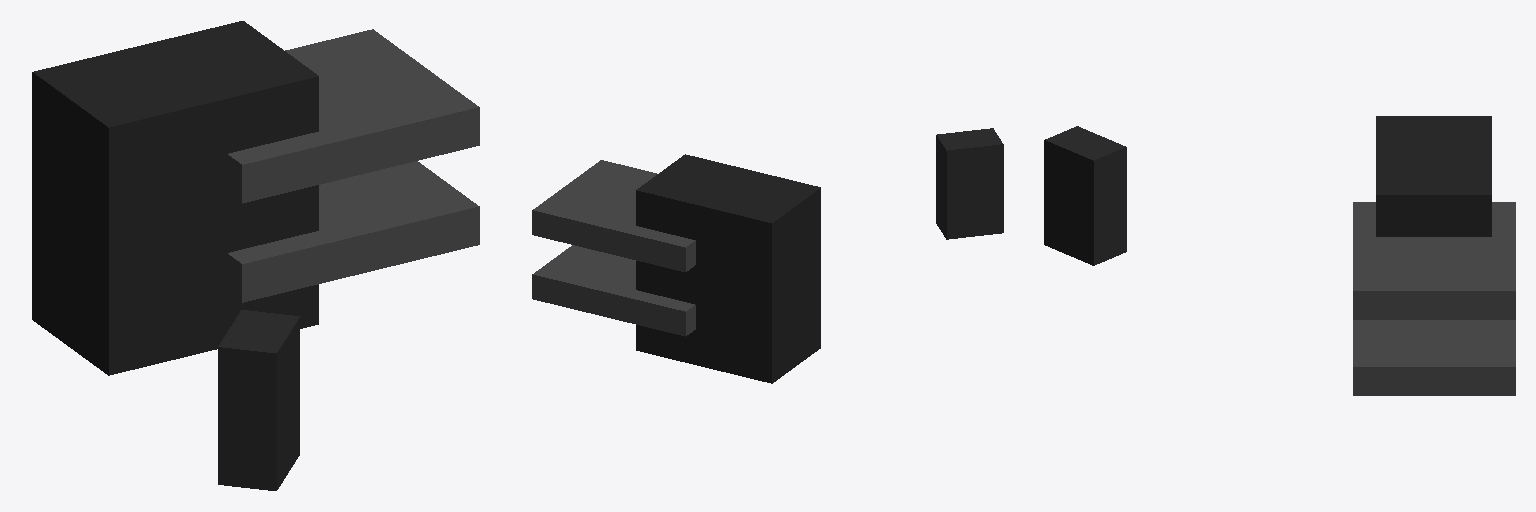
URDF robot description (cs625):
<?xml version='1.0' encoding='utf-8'?>
<robot name="cs625">
  
  
  <link name="world" />
  <ros2_control name="cs" type="system">
    <hardware>
      <plugin>gz_ros2_control/GazeboSimSystem</plugin>
    </hardware>
    <joint name="shoulder_pan_joint">
      <command_interface name="position" />
      <command_interface name="velocity" />
      <state_interface name="position">
        
        <param name="initial_value">0.0</param>
      </state_interface>
      <state_interface name="velocity" />
      <state_interface name="effort" />
    </joint>
    <joint name="shoulder_lift_joint">
      <command_interface name="position" />
      <command_interface name="velocity" />
      <state_interface name="position">
        
        <param name="initial_value">0.0</param>
      </state_interface>
      <state_interface name="velocity" />
      <state_interface name="effort" />
    </joint>
    <joint name="elbow_joint">
      <command_interface name="position" />
      <command_interface name="velocity" />
      <state_interface name="position">
        
        <param name="initial_value">0.0</param>
      </state_interface>
      <state_interface name="velocity" />
      <state_interface name="effort" />
    </joint>
    <joint name="wrist_1_joint">
      <command_interface name="position" />
      <command_interface name="velocity" />
      <state_interface name="position">
        
        <param name="initial_value">0.0</param>
      </state_interface>
      <state_interface name="velocity" />
      <state_interface name="effort" />
    </joint>
    <joint name="wrist_2_joint">
      <command_interface name="position" />
      <command_interface name="velocity" />
      <state_interface name="position">
        
        <param name="initial_value">0.0</param>
      </state_interface>
      <state_interface name="velocity" />
      <state_interface name="effort" />
    </joint>
    <joint name="wrist_3_joint">
      <command_interface name="position" />
      <command_interface name="velocity" />
      <state_interface name="position">
        
        <param name="initial_value">0.0</param>
      </state_interface>
      <state_interface name="velocity" />
      <state_interface name="effort" />
    </joint>
  </ros2_control>
  
  
  
  
  <link name="base_link" />
  <link name="base_link_inertia">
    <collision>
      <origin rpy="0 0 0" xyz="0 0 0" />
      <geometry>
        <mesh filename="file:///home/oy/cs625_underlay_jazzy/install/eli_cs_robot_description/share/eli_cs_robot_description/meshes/cs625/collision/base.stl" />
      </geometry>
    </collision>
    <inertial>
      <mass value="1.50561968754018" />
      <origin rpy="0 0 0" xyz="-2.4008693014781e-05 0.00117748953656619 0.0762927770474629" />
      <inertia ixx="0.00678289120631133" ixy="2.67618063769984e-07" ixz="-2.56895564177072e-06" iyy="0.00685230321535615" iyz="9.42628790478668e-05" izz="0.0100437671447022" />
    </inertial>
  </link>
  <link name="shoulder_link">
    <collision>
      <origin rpy="0 0 0" xyz="0 0 0" />
      <geometry>
        <mesh filename="file:///home/oy/cs625_underlay_jazzy/install/eli_cs_robot_description/share/eli_cs_robot_description/meshes/cs625/collision/shoulder.stl" />
      </geometry>
    </collision>
    <inertial>
      <mass value="17.04" />
      <origin rpy="0 0 0" xyz="9.9e-05 -0.026311 -0.026723" />
      <inertia ixx="0.13029" ixy="-8.271e-05" ixz="0.0001067" iyy="0.085215" iyz="-0.00066335" izz="0.11386" />
    </inertial>
  </link>
  <link name="upperarm_link">
    <collision>
      <origin rpy="0 0 0" xyz="0 0 0" />
      <geometry>
        <mesh filename="file:///home/oy/cs625_underlay_jazzy/install/eli_cs_robot_description/share/eli_cs_robot_description/meshes/cs625/collision/upperarm.stl" />
      </geometry>
    </collision>
    <inertial>
      <mass value="26.543" />
      <origin rpy="0 0 0" xyz="-0.27762 -1.7e-05 0.20184" />
      <inertia ixx="1.197" ixy="-0.00083272" ixz="-1.5396" iyy="6.1117" iyz="-0.00015496" izz="5.022" />
    </inertial>
  </link>
  <link name="forearm_link">
    <collision>
      <origin rpy="0 0 0" xyz="0 0 0" />
      <geometry>
        <mesh filename="file:///home/oy/cs625_underlay_jazzy/install/eli_cs_robot_description/share/eli_cs_robot_description/meshes/cs625/collision/forearm.stl" />
      </geometry>
    </collision>
    <inertial>
      <mass value="7.816" />
      <origin rpy="0 0 0" xyz="-0.30259 2.1e-05 0.07237" />
      <inertia ixx="0.067797" ixy="4.4997e-05" ixz="-0.12636" iyy="1.3409" iyz="1.45e-05" izz="1.2908" />
    </inertial>
  </link>
  <link name="wrist_1_link">
    <collision>
      <origin rpy="0 0 0" xyz="0 0 0" />
      <geometry>
        <mesh filename="file:///home/oy/cs625_underlay_jazzy/install/eli_cs_robot_description/share/eli_cs_robot_description/meshes/cs625/collision/wrist1.stl" />
      </geometry>
    </collision>
    <inertial>
      <mass value="3.095" />
      <origin rpy="0 0 0" xyz="-3.7e-05 -0.01051 -0.014865" />
      <inertia ixx="0.0079584" ixy="-3.024e-06" ixz="5.734e-06" iyy="0.0066863" iyz="1.766e-05" izz="0.0048407" />
    </inertial>
  </link>
  <link name="wrist_2_link">
    <collision>
      <origin rpy="0 0 0" xyz="0 0 0" />
      <geometry>
        <mesh filename="file:///home/oy/cs625_underlay_jazzy/install/eli_cs_robot_description/share/eli_cs_robot_description/meshes/cs625/collision/wrist2.stl" />
      </geometry>
    </collision>
    <inertial>
      <mass value="3.095" />
      <origin rpy="0 0 0" xyz="3.7e-05 0.01051 -0.014865" />
      <inertia ixx="0.007958413" ixy="-3.024e-06" ixz="5.734e-06" iyy="0.006686348" iyz="1.766e-05" izz="0.004840671" />
    </inertial>
  </link>
  <link name="wrist_3_link">
    <collision>
      <origin rpy="0 0 0" xyz="0 0 0" />
      <geometry>
        <mesh filename="file:///home/oy/cs625_underlay_jazzy/install/eli_cs_robot_description/share/eli_cs_robot_description/meshes/cs625/collision/wrist3.stl" />
      </geometry>
    </collision>
    <inertial>
      <mass value="0.879" />
      <origin rpy="0 0 0" xyz="0.000242 -0.001192 -0.050422" />
      <inertia ixx="0.004065851" ixy="1.5185e-05" ixz="-1.1453e-05" iyy="0.004060372" iyz="4.2152e-05" izz="0.001170392" />
    </inertial>
  </link>
  
  <joint name="base_joint" type="fixed">
    <origin rpy="0 0 0" xyz="0 0 0" />
    <parent link="world" />
    <child link="base_link" />
  </joint>
  
  <joint name="base_link-base_link_inertia" type="fixed">
    <parent link="base_link" />
    <child link="base_link_inertia" />
    <origin rpy="0 0 0" xyz="0 0 0" />
  </joint>
  <joint name="shoulder_pan_joint" type="revolute">
    <parent link="base_link_inertia" />
    <child link="shoulder_link" />
    <origin rpy="0 0 0" xyz="0 0 0.231007" />
    <axis xyz="0 0 1" />
    <limit effort="730.0" lower="-6.283185307179586" upper="6.283185307179586" velocity="2.0943951023931953" />
    <safety_controller k_position="20" k_velocity="0.0" soft_lower_limit="-6.133185307179586" soft_upper_limit="6.133185307179586" />
    <dynamics damping="0" friction="0" />
  </joint>
  <joint name="shoulder_lift_joint" type="revolute">
    <parent link="shoulder_link" />
    <child link="upperarm_link" />
    <origin rpy="1.5707999 0 0" xyz="0 0 0" />
    <axis xyz="0 0 1" />
    <limit effort="730.0" lower="-6.283185307179586" upper="6.283185307179586" velocity="2.0943951023931953" />
    <safety_controller k_position="20" k_velocity="0.0" soft_lower_limit="-6.133185307179586" soft_upper_limit="6.133185307179586" />
    <dynamics damping="0" friction="0" />
  </joint>
  <joint name="elbow_joint" type="revolute">
    <parent link="upperarm_link" />
    <child link="forearm_link" />
    <origin rpy="0 0 0" xyz="-0.750517 0 0" />
    <axis xyz="0 0 1" />
    <limit effort="430.0" lower="-3.141592653589793" upper="3.141592653589793" velocity="2.6179938779914944" />
    <safety_controller k_position="20" k_velocity="0.0" soft_lower_limit="-2.991592653589793" soft_upper_limit="2.991592653589793" />
    <dynamics damping="0" friction="0" />
  </joint>
  <joint name="wrist_1_joint" type="revolute">
    <parent link="forearm_link" />
    <child link="wrist_1_link" />
    <origin rpy="0 0 0" xyz="-0.623098 0 0.171144" />
    <axis xyz="0 0 1" />
    <limit effort="100.0" lower="-6.283185307179586" upper="6.283185307179586" velocity="3.6651914291880923" />
    <safety_controller k_position="20" k_velocity="0.0" soft_lower_limit="-6.133185307179586" soft_upper_limit="6.133185307179586" />
    <dynamics damping="0" friction="0" />
  </joint>
  <joint name="wrist_2_joint" type="revolute">
    <parent link="wrist_1_link" />
    <child link="wrist_2_link" />
    <origin rpy="1.5707999 0 0" xyz="0 -0.127906 0" />
    <axis xyz="0 0 1" />
    <limit effort="100.0" lower="-6.283185307179586" upper="6.283185307179586" velocity="3.6651914291880923" />
    <safety_controller k_position="20" k_velocity="0.0" soft_lower_limit="-6.133185307179586" soft_upper_limit="6.133185307179586" />
    <dynamics damping="0" friction="0" />
  </joint>
  <joint name="wrist_3_joint" type="revolute">
    <parent link="wrist_2_link" />
    <child link="wrist_3_link" />
    <origin rpy="-1.5707999 0 0" xyz="0 0.127478 0" />
    <axis xyz="0 0 1" />
    <limit effort="100.0" lower="-6.283185307179586" upper="6.283185307179586" velocity="3.6651914291880923" />
    <safety_controller k_position="20" k_velocity="0.0" soft_lower_limit="-6.133185307179586" soft_upper_limit="6.133185307179586" />
    <dynamics damping="0" friction="0" />
  </joint>
  <link name="ft_frame" />
  <joint name="wrist_3_link-ft_frame" type="fixed">
    <parent link="wrist_3_link" />
    <child link="ft_frame" />
    <origin rpy="0 0 0" xyz="0 0 0" />
  </joint>
  
  <link name="base" />
  <joint name="base_link-base_fixed_joint" type="fixed">
    <origin rpy="0 0 0" xyz="0 0 0" />
    <parent link="base_link" />
    <child link="base" />
  </joint>
  
  <link name="flange" />
  <joint name="wrist_3-flange" type="fixed">
    <parent link="wrist_3_link" />
    <child link="flange" />
    <origin rpy="0 0 0" xyz="0 0 0" />
  </joint>
  
  <gazebo reference="world" />
  <gazebo>
    
    <plugin filename="gz_ros2_control-system" name="gz_ros2_control::GazeboSimROS2ControlPlugin">
      <robot_param>robot_description</robot_param>
      <robot_param_node>robot_state_publisher</robot_param_node>
      <parameters>/home/oy/cs625_p56_install/share/cs625_bringup/config/sim_controllers.yaml</parameters>
      
      <position_proportional_gain>0.5</position_proportional_gain>
      <controller_manager_name>controller_manager</controller_manager_name>
    </plugin>
    <plugin filename="gz-sim-detachable-joint-system" name="gz::sim::systems::DetachableJoint">
      
      <parent_link>wrist_3_link</parent_link>
      <child_model>target_object</child_model>
      <child_link>target_link</child_link>
      <detach_topic>/p7/attachment/detach</detach_topic>
      <attach_topic>/p7/attachment/attach</attach_topic>
      <output_topic>/p7/attachment/state</output_topic>
    </plugin>
  </gazebo>
  
  <gazebo reference="base_link">
    <gravity>false</gravity>
  </gazebo>
  <gazebo reference="shoulder_link">
    <gravity>false</gravity>
  </gazebo>
  <gazebo reference="upperarm_link">
    <gravity>false</gravity>
  </gazebo>
  <gazebo reference="forearm_link">
    <gravity>false</gravity>
  </gazebo>
  <gazebo reference="wrist_1_link">
    <gravity>false</gravity>
  </gazebo>
  <gazebo reference="wrist_2_link">
    <gravity>false</gravity>
  </gazebo>
  <gazebo reference="wrist_3_link">
    <gravity>false</gravity>
  </gazebo>
  <gazebo reference="my_end_effector_link">
    <gravity>false</gravity>
  </gazebo>
  <gazebo reference="gripper_base_link">
    <gravity>false</gravity>
  </gazebo>
  <gazebo reference="gripper_left_finger_link">
    <gravity>false</gravity>
  </gazebo>
  <gazebo reference="gripper_right_finger_link">
    <gravity>false</gravity>
  </gazebo>
  
  <link name="my_end_effector_link">
    <collision>
      <geometry>
        <mesh filename="file:///home/oy/cs625_underlay_jazzy/install/eli_cs_robot_description/share/eli_cs_robot_description/meshes/visual/tool0_collision.STL" scale="0.001 0.001 0.001" />
      </geometry>
    </collision>
  </link>
  <joint name="flange_to_eef_joint" type="fixed">
    <parent link="flange" />
    <child link="my_end_effector_link" />
    <origin rpy="0 0 0" xyz="-0.046 0 0.353" />
  </joint>
  
  <link name="tool0" />
  <joint name="eef_to_tool0" type="fixed">
    <parent link="my_end_effector_link" />
    <child link="tool0" />
    <origin rpy="0 0 0" xyz="0 0 0" />
  </joint>
  <link name="gripper_base_link">
    <visual>
      <geometry>
        <box size="0.080 0.090 0.050" />
      </geometry>
      <material name="gripper_dark">
        <color rgba="0.18 0.18 0.18 1" />
      </material>
    </visual>
    <collision>
      <geometry>
        <box size="0.080 0.090 0.050" />
      </geometry>
    </collision>
    <inertial>
      <mass value="0.25" />
      <inertia ixx="0.00020" ixy="0" ixz="0" iyy="0.00017" iyz="0" izz="0.00028" />
    </inertial>
  </link>
  <joint name="tool0_to_gripper_base" type="fixed">
    <parent link="tool0" />
    <child link="gripper_base_link" />
    <origin rpy="0 0 0" xyz="0.085 0 0" />
  </joint>
  <link name="gripper_right_finger_link">
    <visual>
      <origin xyz="0.045 0 0" />
      <geometry>
        <box size="0.090 0.014 0.070" />
      </geometry>
      <material name="gripper_finger">
        <color rgba="0.32 0.32 0.32 1" />
      </material>
    </visual>
    <collision>
      <origin xyz="0.045 0 0" />
      <geometry>
        <box size="0.090 0.014 0.070" />
      </geometry>
    </collision>
    <inertial>
      <origin xyz="0.045 0 0" />
      <mass value="0.04" />
      <inertia ixx="0.00002" ixy="0" ixz="0" iyy="0.00003" iyz="0" izz="0.00003" />
    </inertial>
  </link>
  <joint name="gripper_right_finger_joint" type="prismatic">
    <parent link="gripper_base_link" />
    <child link="gripper_right_finger_link" />
    <origin rpy="0 0 0" xyz="0.005 -0.018 0" />
    <axis xyz="0 -1 0" />
    <limit effort="80" lower="0.0" upper="0.040" velocity="0.10" />
  </joint>
  <link name="gripper_left_finger_link">
    <visual>
      <origin xyz="0.045 0 0" />
      <geometry>
        <box size="0.090 0.014 0.070" />
      </geometry>
      <material name="gripper_finger_left">
        <color rgba="0.32 0.32 0.32 1" />
      </material>
    </visual>
    <collision>
      <origin xyz="0.045 0 0" />
      <geometry>
        <box size="0.090 0.014 0.070" />
      </geometry>
    </collision>
    <inertial>
      <origin xyz="0.045 0 0" />
      <mass value="0.04" />
      <inertia ixx="0.00002" ixy="0" ixz="0" iyy="0.00003" iyz="0" izz="0.00003" />
    </inertial>
  </link>
  <joint name="gripper_left_finger_joint" type="prismatic">
    <parent link="gripper_base_link" />
    <child link="gripper_left_finger_link" />
    <origin rpy="0 0 0" xyz="0.005 0.018 0" />
    <axis xyz="0 1 0" />
    <mimic joint="gripper_right_finger_joint" multiplier="1.0" offset="0.0" />
    <limit effort="80" lower="0.0" upper="0.040" velocity="0.10" />
  </joint>
  <ros2_control name="cs625_parallel_gripper" type="system">
    <hardware>
      <plugin>gz_ros2_control/GazeboSimSystem</plugin>
    </hardware>
    <joint name="gripper_right_finger_joint">
      <command_interface name="position" />
      <state_interface name="position">
        <param name="initial_value">0.030</param>
      </state_interface>
      <state_interface name="velocity" />
      <state_interface name="effort" />
    </joint>
    <joint name="gripper_left_finger_joint">
      <state_interface name="position" />
      <state_interface name="velocity" />
      <state_interface name="effort" />
    </joint>
  </ros2_control>
  
  <link name="p7_grasp_center_link" />
  <joint name="gripper_base_to_p7_grasp_center" type="fixed">
    <parent link="gripper_base_link" />
    <child link="p7_grasp_center_link" />
    <origin rpy="0 0 0" xyz="0.080 0 0" />
  </joint>
  <link name="camera_mount_link">
    <inertial>
      <mass value="0.01" />
      <origin rpy="0 0 0" xyz="0 0 0" />
      <inertia ixx="0.000001" ixy="0" ixz="0" iyy="0.000001" iyz="0" izz="0.000001" />
    </inertial>
  </link>
  <joint name="tool0_to_camera_mount" type="fixed">
    <parent link="tool0" />
    <child link="camera_mount_link" />
    <origin rpy="0 0.785398163397 0" xyz="0.03 0 0.15" />
  </joint>
  <link name="camera_link">
    <visual>
      <geometry>
        <box size="0.03 0.05 0.02" />
      </geometry>
      <material name="camera_body">
        <color rgba="0.20 0.20 0.20 1.0" />
      </material>
    </visual>
    <collision>
      <geometry>
        <box size="0.03 0.05 0.02" />
      </geometry>
    </collision>
    <inertial>
      <mass value="0.05" />
      <inertia ixx="0.00001" ixy="0" ixz="0" iyy="0.00001" iyz="0" izz="0.00001" />
    </inertial>
  </link>
  <joint name="camera_mount_to_camera" type="fixed">
    <parent link="camera_mount_link" />
    <child link="camera_link" />
    <origin rpy="0 0 0" xyz="0 0 0" />
  </joint>
  <link name="camera_depth_optical_frame" />
  <joint name="camera_to_depth_optical" type="fixed">
    <parent link="camera_link" />
    <child link="camera_depth_optical_frame" />
    <origin rpy="-1.570796326795 0 -1.570796326795" xyz="0 0 0" />
  </joint>
  
  <link name="camera_color_optical_frame" />
  <joint name="camera_to_color_optical" type="fixed">
    <parent link="camera_link" />
    <child link="camera_color_optical_frame" />
    <origin rpy="-1.570796326795 0 -1.570796326795" xyz="0 0 0" />
  </joint>
  <gazebo reference="camera_link">
    <sensor name="camera_sensor" type="rgbd_camera">
      <pose>0 0 0 0 0 0</pose>
      <always_on>1</always_on>
      <update_rate>10.0</update_rate>
      <visualize>false</visualize>
      <camera>
        <horizontal_fov>1.047</horizontal_fov>
        <image>
          <width>320</width>
          <height>240</height>
          <format>R8G8B8</format>
        </image>
        <clip>
          <near>0.05</near>
          <far>5.0</far>
        </clip>
        <optical_frame_id>camera_depth_optical_frame</optical_frame_id>
      </camera>
      <topic>/camera</topic>
    </sensor>
  </gazebo>
</robot>

--- What the picture shows (computed from the rendered views, not written in the file) ---
The picture shows the robot from 3 angles, left to right: view 1: azimuth 30°, elevation 25°; view 2: azimuth 150°, elevation 25°; view 3: azimuth 270°, elevation 25°; orthographic projection.
Model cs625 with 22 links and 21 joints (6 revolute, 2 prismatic, 13 fixed), rooted at world, posed every joint at zero.
Visible links, largest first — view 1: gripper_base_link, gripper_left_finger_link, gripper_right_finger_link, camera_link; view 2: gripper_base_link, gripper_left_finger_link, gripper_right_finger_link, camera_link; view 3: gripper_left_finger_link, gripper_base_link, gripper_right_finger_link, camera_link.
Link boxes in pixels (x1,y1,x2,y2): gripper_base_link: (32,21,318,375); gripper_left_finger_link: (227,29,479,203); gripper_right_finger_link: (227,161,479,302); camera_link: (218,310,299,490); gripper_base_link: (636,154,820,383); gripper_left_finger_link: (532,160,695,271); gripper_right_finger_link: (532,245,695,336); camera_link: (936,128,1003,239); gripper_left_finger_link: (1353,202,1515,319); gripper_base_link: (1376,116,1491,236); gripper_right_finger_link: (1353,320,1515,395); camera_link: (1044,126,1126,265).
Bounding box of the posed robot: 0.1677 × 0.2027 × 0.09 m (x, y, z).
Geometry: primitives only (box / cylinder / sphere), no mesh files.
